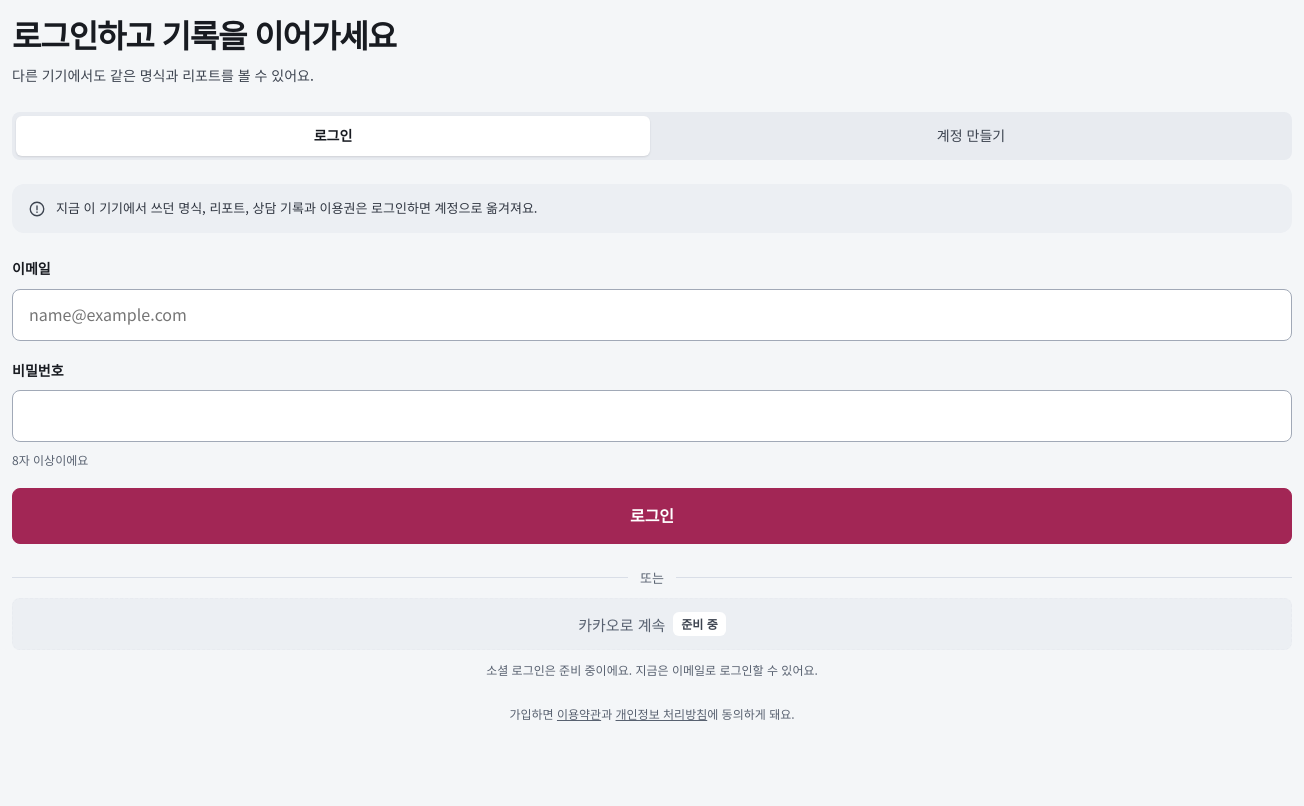
Test: LiveLoginScreen anonymous migration messaging › tells the user login succeeded but anonymous data was unrecoverable on 410/ANONYMOUS_SESSION_EXPIRED
Type "user@example.com" into the field labelled "이메일" at (652, 314), box [12,288,1292,340]
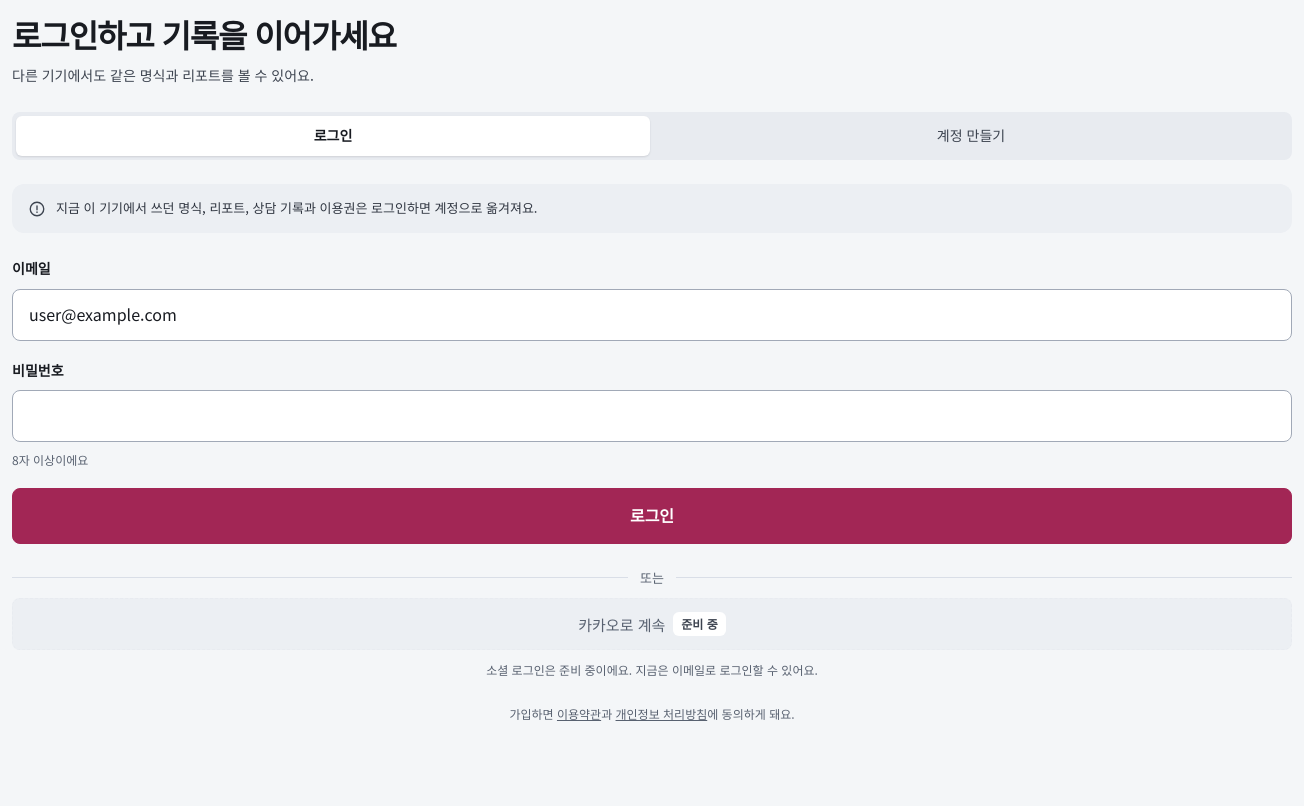
Type "password123" into the password field labelled "비밀번호" at (652, 416), box [12,390,1292,442]
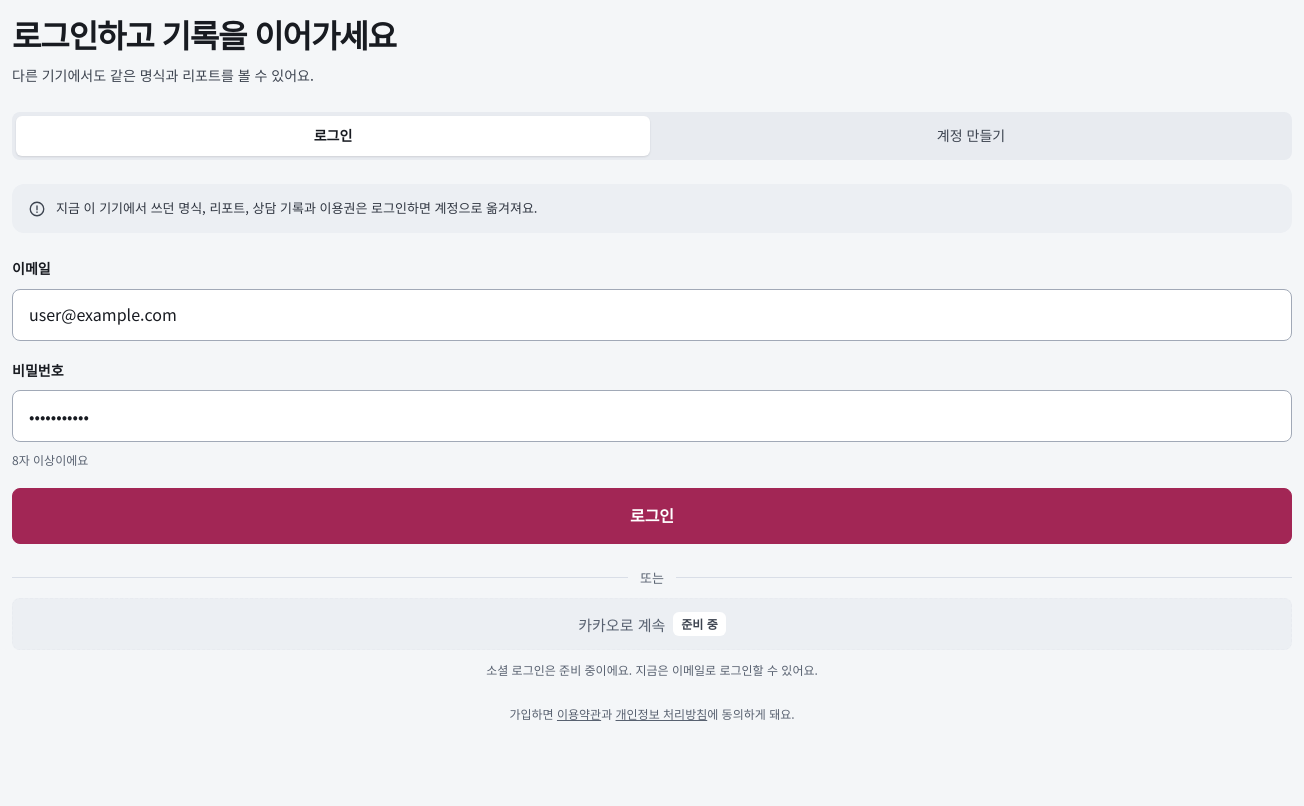
Click the button "로그인" at (652, 516), box [12,488,1292,544]
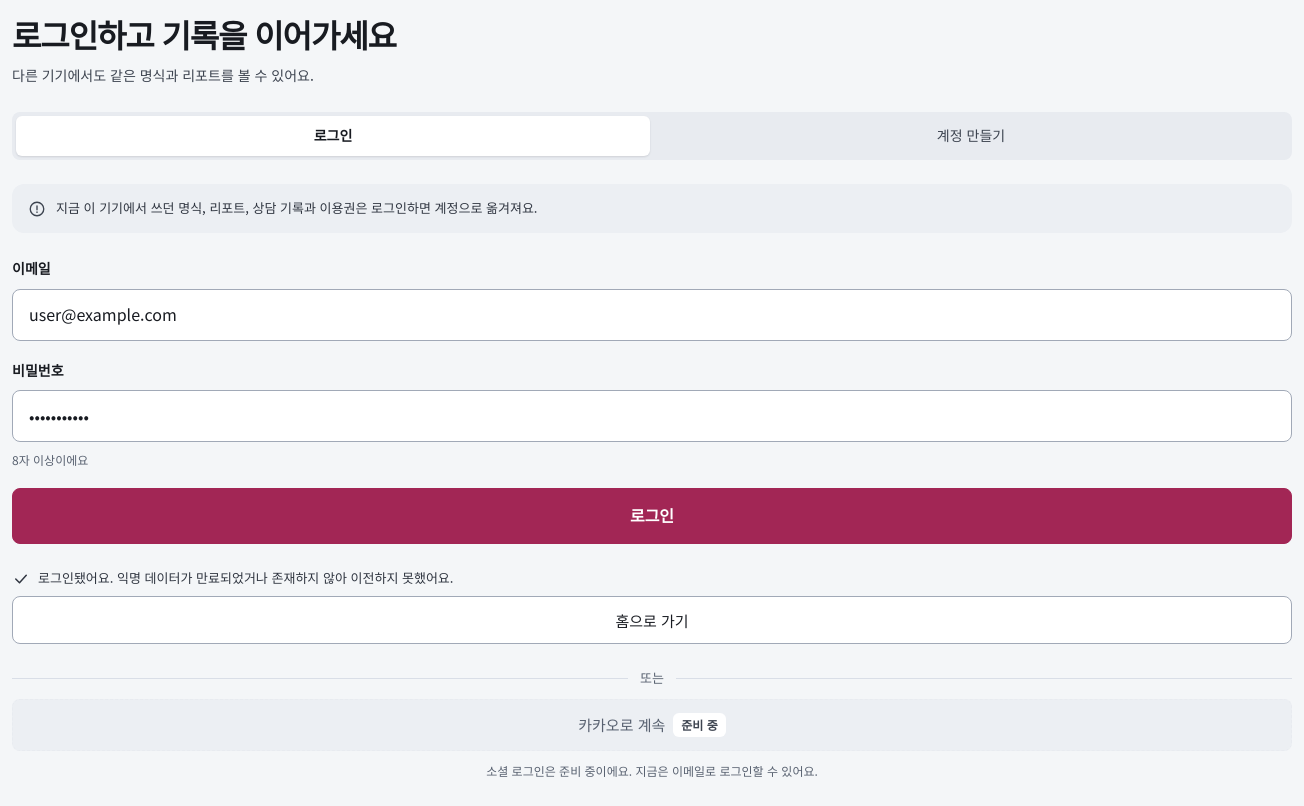
Result: the message shows "로그인됐어요" at [38,568,454,586]
Result: the message shows "익명 데이터가 만료되었거나 존재하지 않아 이전하지 못했어요." at [38,568,454,586]
